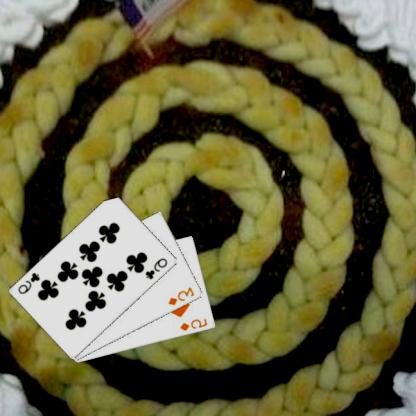3D: (167, 284, 198, 307)
5D: (179, 316, 211, 332)
9C: (144, 255, 172, 281), (17, 270, 44, 295)
